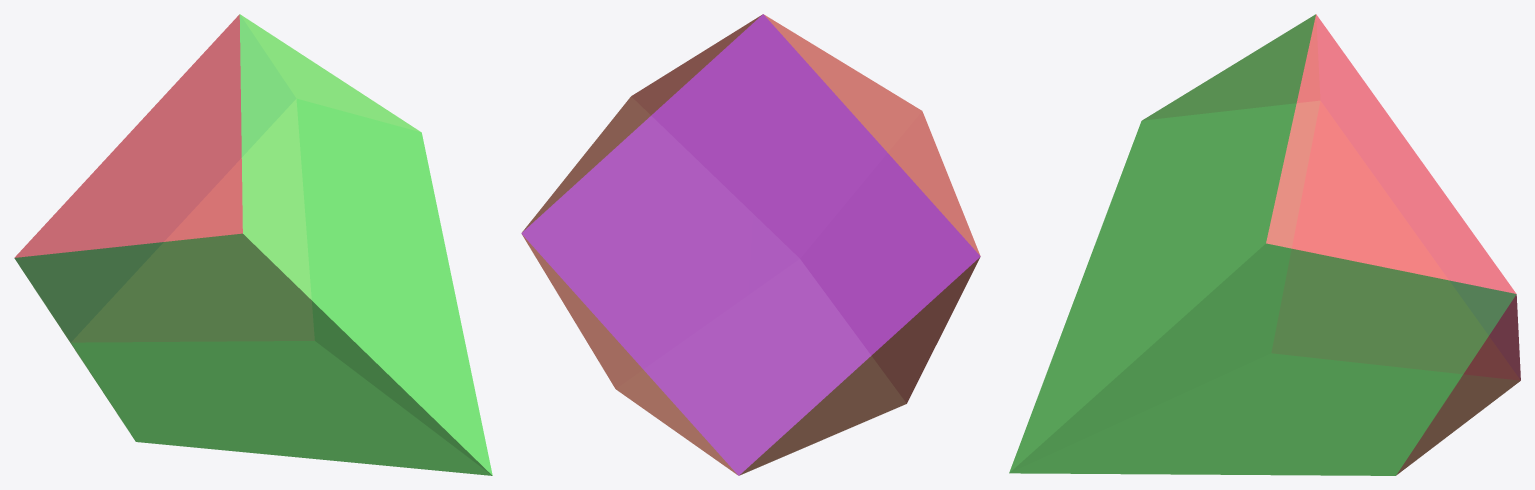
Rendered from Goddard-HenningEnneahedron.obj.
3 views of the same model, side by side, from view 1: azimuth 30°, elevation 25°; view 2: azimuth 150°, elevation 25°; view 3: azimuth 270°, elevation 25° (orthographic). The views are drawn at different scales.
Bounding box in the file's own units: 6.35 × 6.07 × 6.97.
